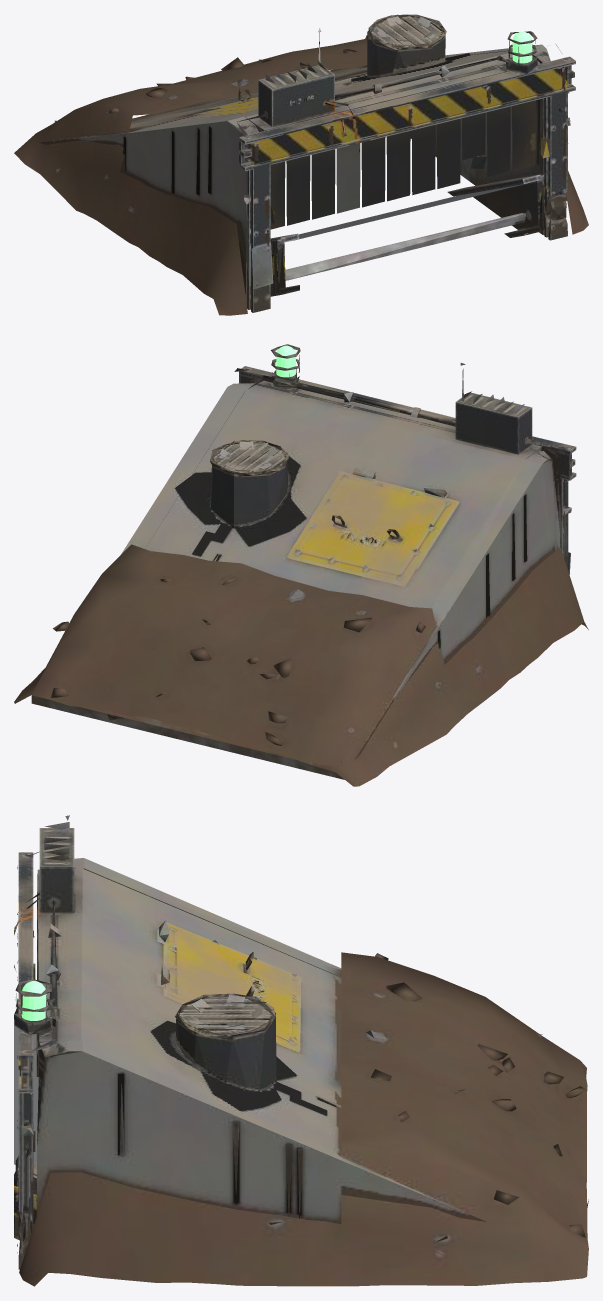
The model's file is esteira_tunel_entrada.glb.
3 views of the same model, one above another, from view 1: azimuth 30°, elevation 25°; view 2: azimuth 150°, elevation 25°; view 3: azimuth 270°, elevation 25° (orthographic). The views are drawn at different scales.
Visible parts, largest first — view 1: esteira_tunel_entrada_corpo; view 2: esteira_tunel_entrada_corpo; view 3: esteira_tunel_entrada_corpo.
Part boxes in pixels (x1=…): esteira_tunel_entrada_corpo: x1=14, y1=14, x2=588, y2=315; esteira_tunel_entrada_corpo: x1=14, y1=344, x2=588, y2=786; esteira_tunel_entrada_corpo: x1=14, y1=815, x2=588, y2=1286.
Size of the model in its own units: 0.9415 by 0.6062 by 1.
4 materials, 1 textured.
